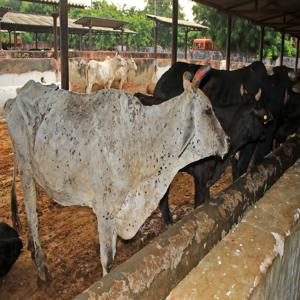lumpy skin diesease: (2, 69, 230, 287), (151, 59, 299, 175), (159, 90, 273, 226), (271, 64, 299, 148), (0, 219, 23, 299), (84, 50, 126, 93), (112, 56, 138, 89), (146, 63, 171, 94)
